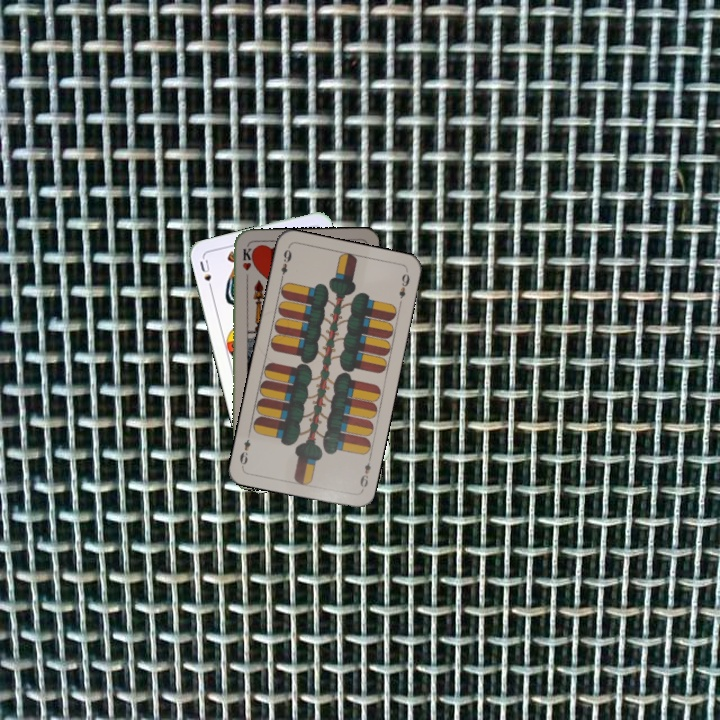E9: (356, 453, 374, 494), (276, 245, 294, 284)
HK: (239, 244, 254, 284)
SU: (196, 255, 215, 295)
